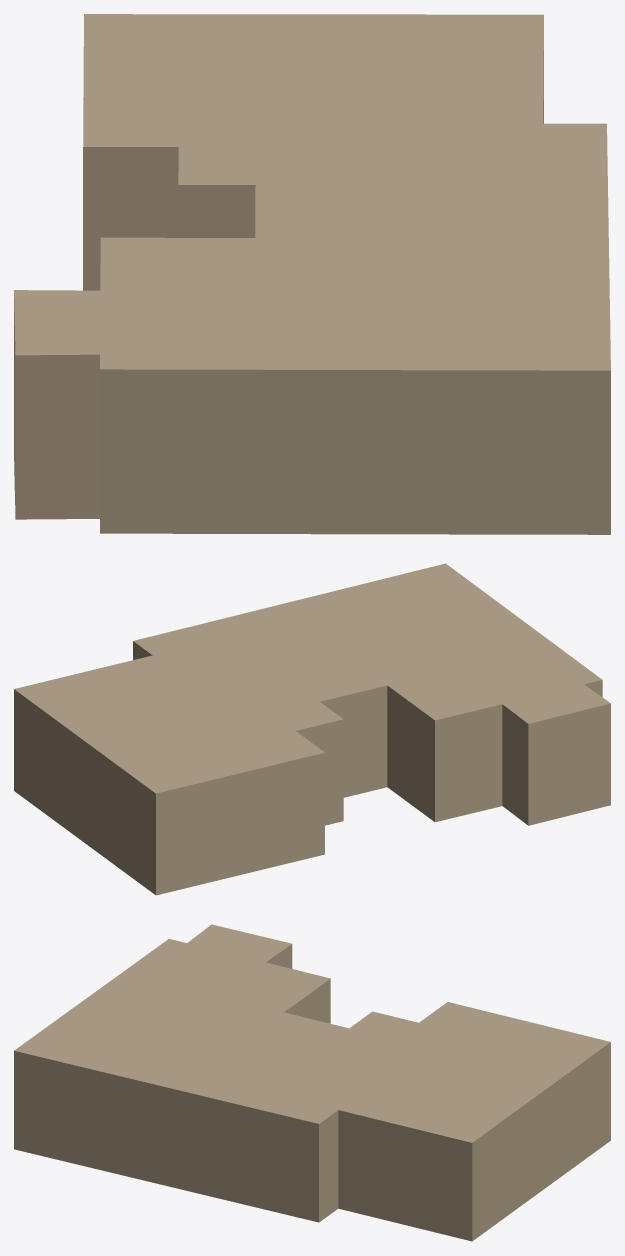
Rendered from bld_49071584.dae.
3 views of the same model, one above another, from view 1: azimuth 30°, elevation 25°; view 2: azimuth 150°, elevation 25°; view 3: azimuth 270°, elevation 25° (orthographic). The views are drawn at different scales.
Parts seen in each view (by area): view 1: bld_49071584; view 2: bld_49071584; view 3: bld_49071584.
Boxes of the visible parts, x1,y1,x2,y2 form: bld_49071584: (14,14,610,534); bld_49071584: (14,563,610,895); bld_49071584: (14,924,610,1241).
Size of the model in its own units: 57.02 by 65.84 by 12.
